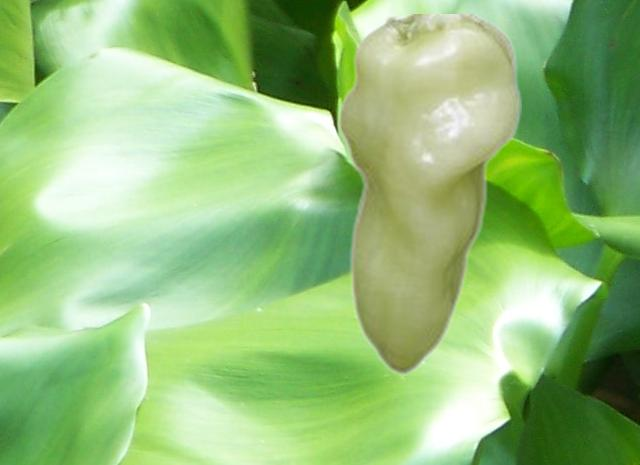green_chili: (333, 14, 520, 374)
